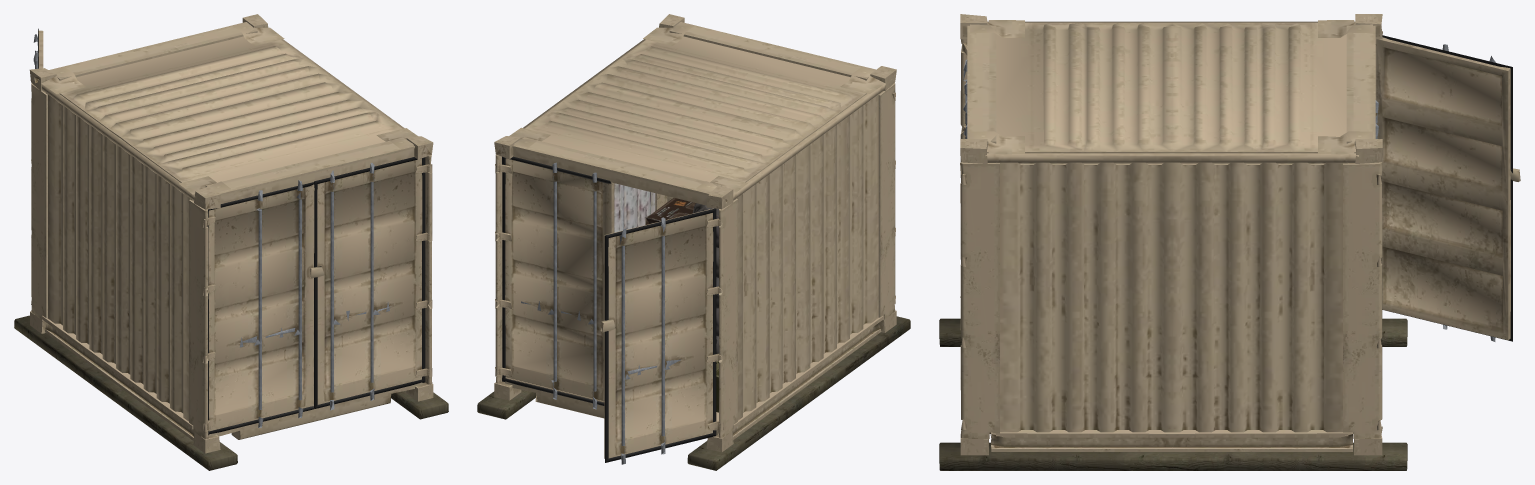
Rendered from repairstation.glb.
The picture shows the model from 3 angles, left to right: view 1: azimuth 30°, elevation 25°; view 2: azimuth 150°, elevation 25°; view 3: azimuth 270°, elevation 25°; orthographic projection. The views are drawn at different scales.
Parts seen in each view (by area): view 1: rearm_and_rapair_final_us; view 2: rearm_and_rapair_final_us; view 3: rearm_and_rapair_final_us.
Part boxes in pixels (x1=…): rearm_and_rapair_final_us: x1=14, y1=14, x2=448, y2=470; rearm_and_rapair_final_us: x1=477, y1=14, x2=910, y2=470; rearm_and_rapair_final_us: x1=939, y1=14, x2=1520, y2=470.
Size of the model in its own units: 2.57 by 2.71 by 4.47.
7 materials, 7 textured.
